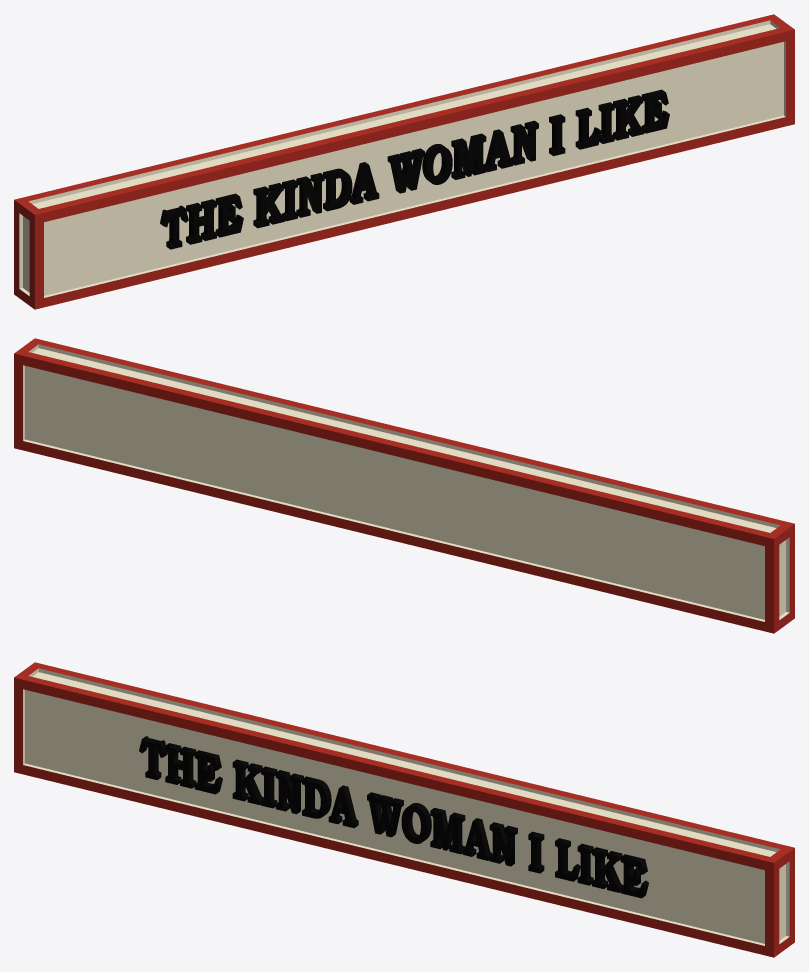
Rendered from theKindOfWomanILike.glb.
The picture shows the model from 3 angles, top to bottom: view 1: azimuth 30°, elevation 25°; view 2: azimuth 150°, elevation 25°; view 3: azimuth 330°, elevation 25°; orthographic projection.
Parts seen in each view (by area): view 1: Button.014, Text.012; view 2: Button.014; view 3: Button.014, Text.012.
Part boxes in pixels (x1=…): Button.014: x1=14, y1=14, x2=794, y2=309; Text.012: x1=160, y1=89, x2=669, y2=249; Button.014: x1=14, y1=338, x2=794, y2=633; Button.014: x1=14, y1=662, x2=794, y2=957; Text.012: x1=139, y1=736, x2=648, y2=898.
Bounding box in the file's own units: 10.5 × 1.25 × 0.5499.
